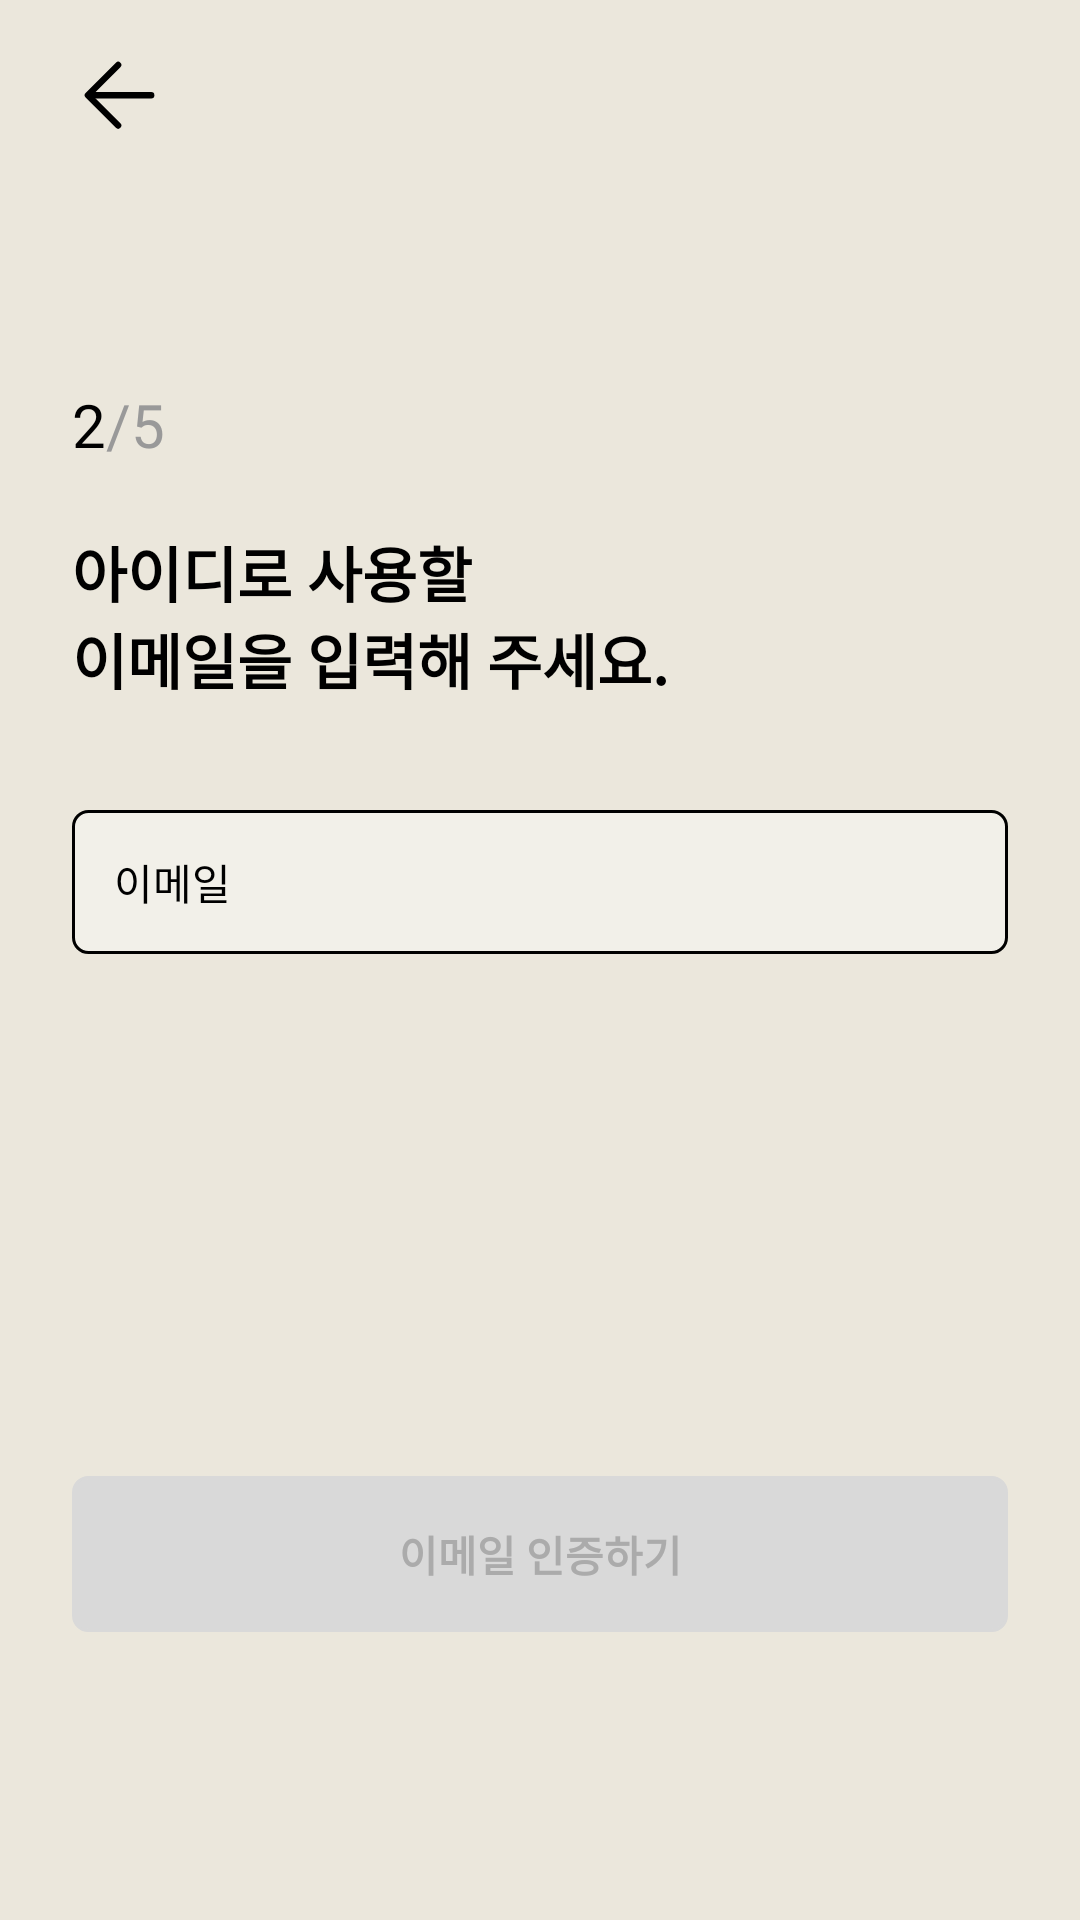

Where to tap for icons on this 1080w x 1920h app screen, as point (x, y):
back: point (119, 95)
